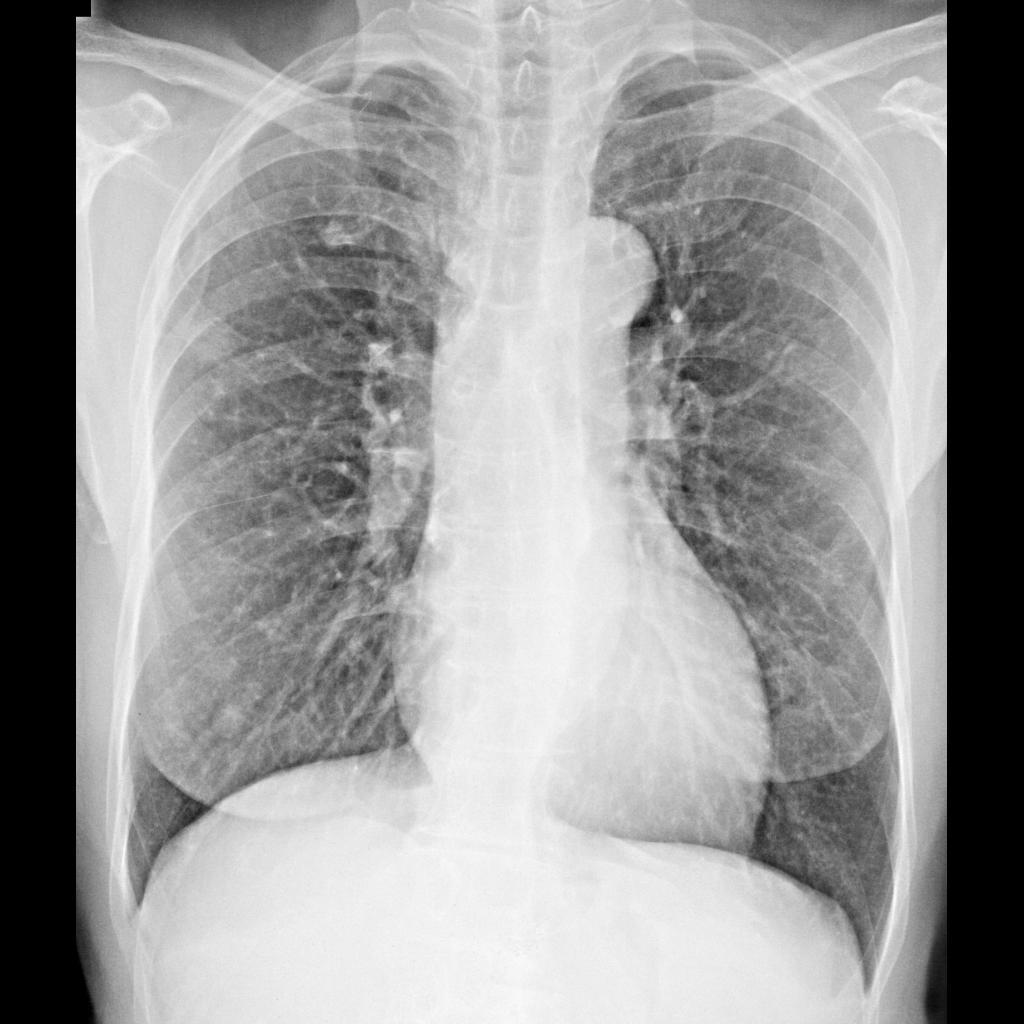Nodule: (191, 323, 232, 363)
